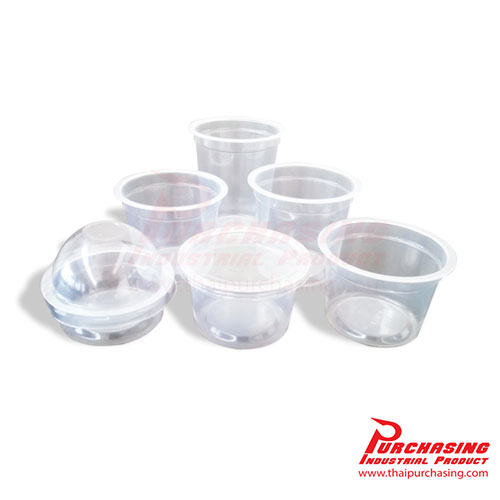plastic_glass: (314, 214, 460, 355)
